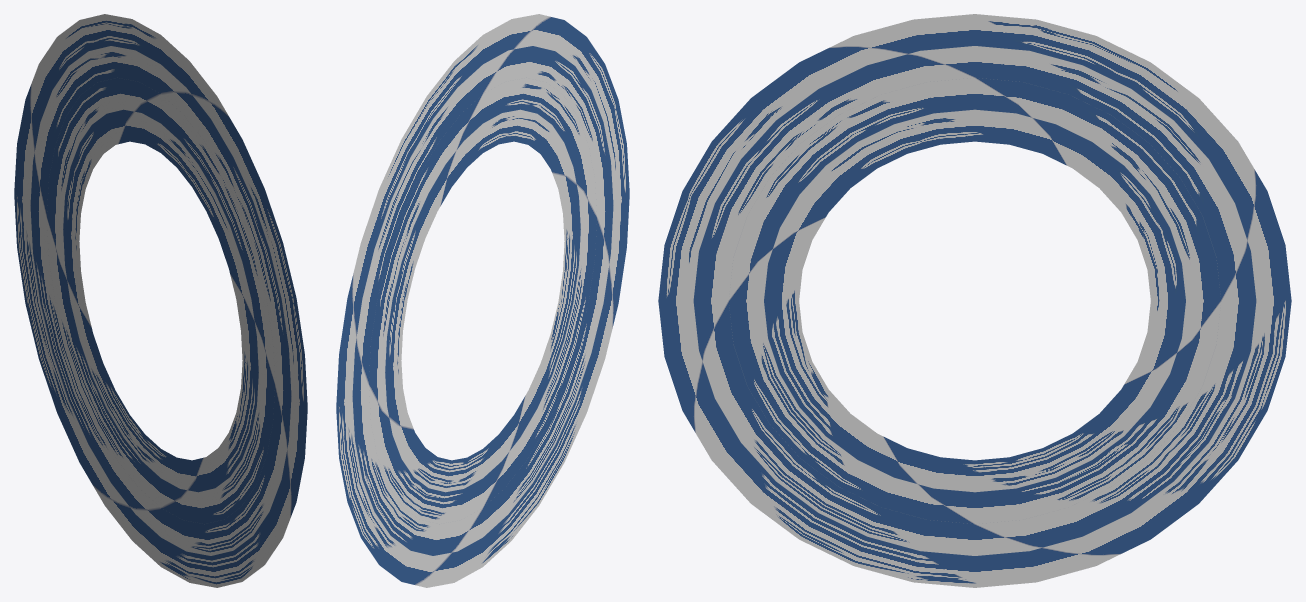
Rendered from Ring18.fbx.
3 renders of one model, left to right at view 1: azimuth 30°, elevation 25°; view 2: azimuth 150°, elevation 25°; view 3: azimuth 270°, elevation 25°, orthographic. The views are drawn at different scales.
Visible parts, largest first — view 1: SM_e_cmn_Ring018; view 2: SM_e_cmn_Ring018; view 3: SM_e_cmn_Ring018.
Boxes of the visible parts, x1=… form: SM_e_cmn_Ring018: x1=14, y1=14, x2=307, y2=587; SM_e_cmn_Ring018: x1=336, y1=14, x2=629, y2=587; SM_e_cmn_Ring018: x1=658, y1=14, x2=1291, y2=587.
Bounding box in the file's own units: 8.54e-06 × 99.88 × 99.88.
